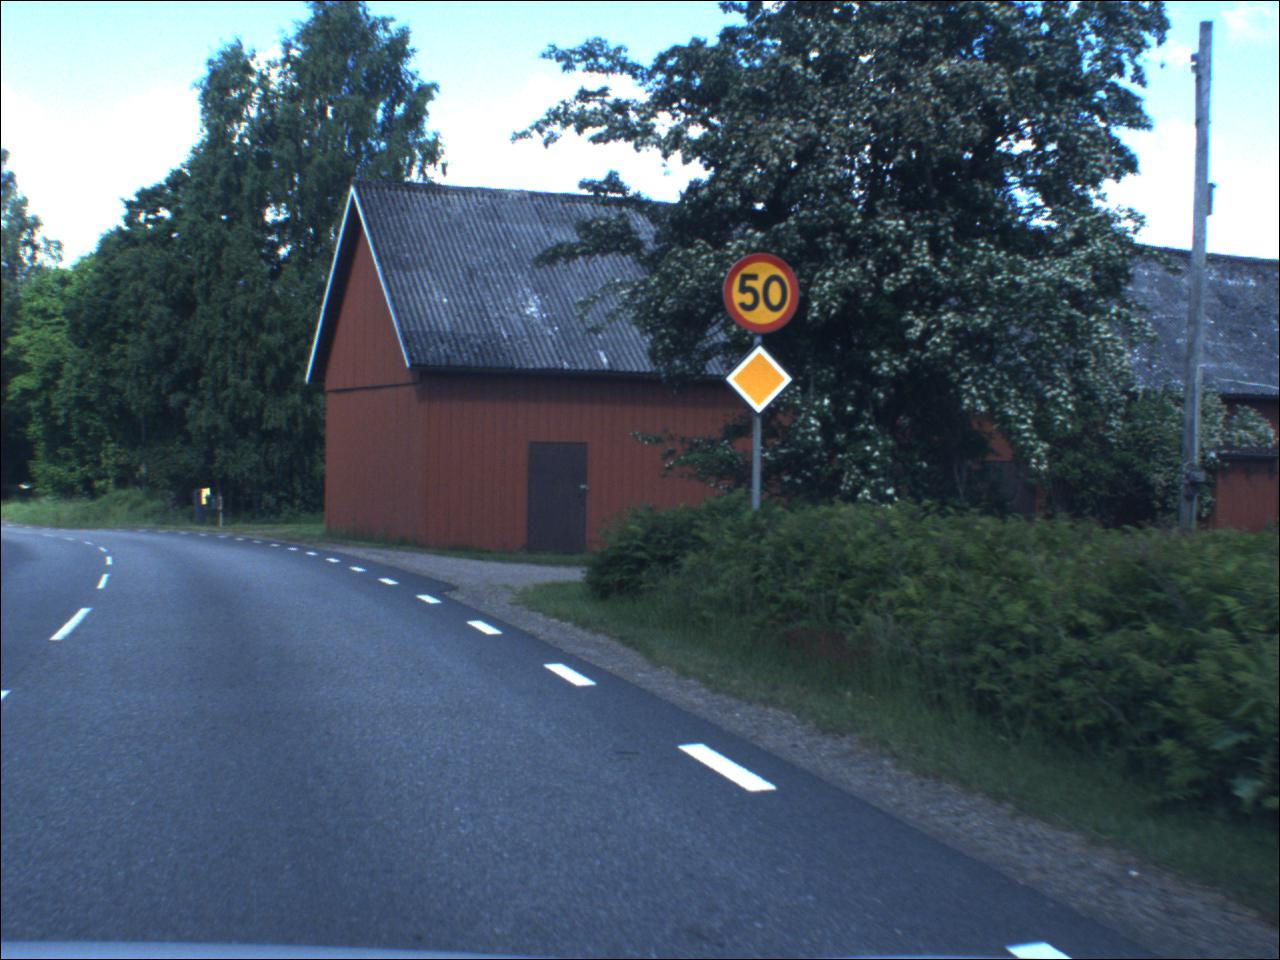50_SIGN: (725, 253, 807, 335)
PRIORITY_ROAD: (721, 345, 796, 418)
